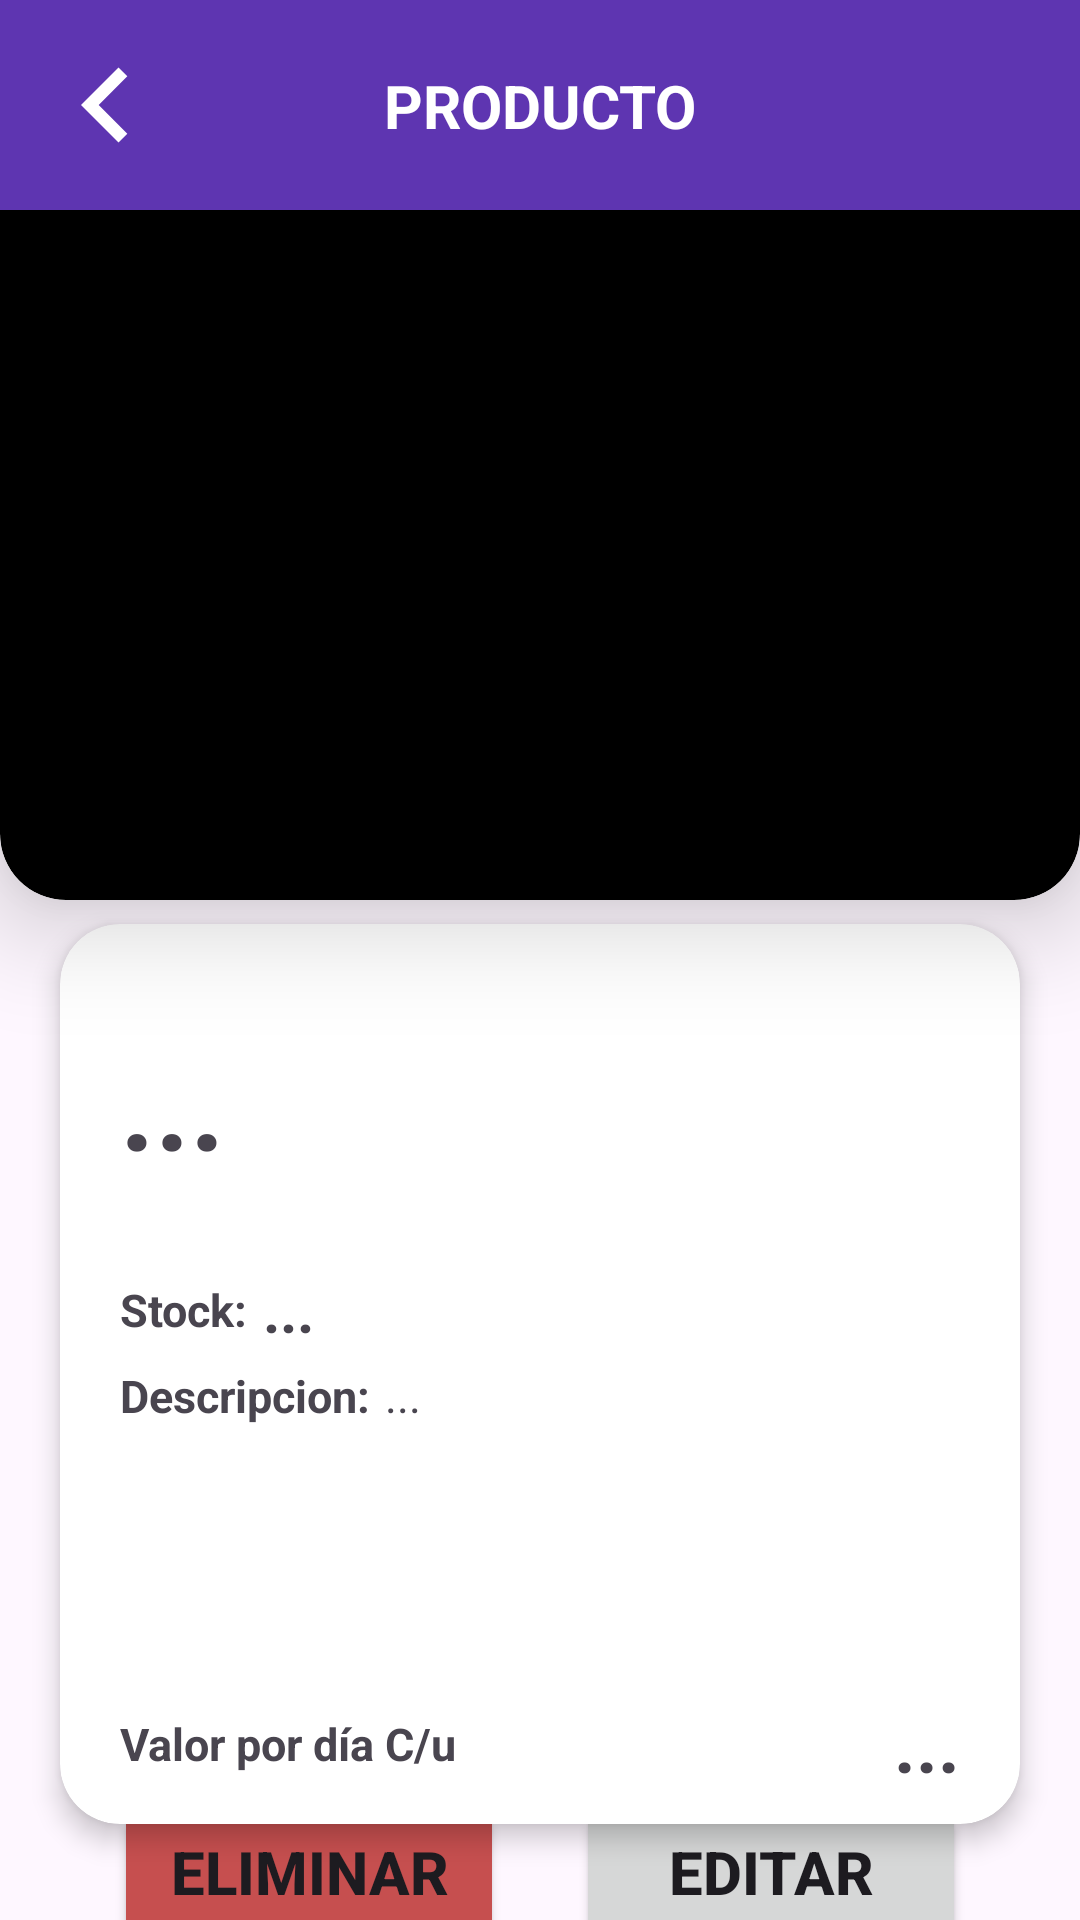

Icon bounding boxes for this 1080 x 1920 phone screenshot, format (x1, y1, x2, y2):
back: (81, 67, 127, 143)
